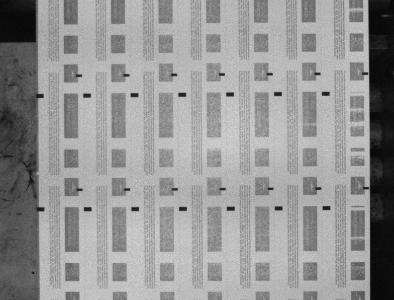qblock: (36, 93, 44, 98), (83, 93, 91, 98), (322, 91, 330, 96), (179, 92, 187, 97), (179, 206, 187, 211), (37, 207, 45, 211), (131, 93, 139, 97), (226, 92, 234, 96), (84, 207, 92, 211), (323, 206, 331, 210), (275, 206, 283, 210), (131, 207, 139, 211), (275, 92, 282, 96), (227, 207, 235, 210)
smallqblock: (123, 73, 130, 77), (171, 73, 178, 76), (219, 73, 226, 76), (315, 187, 322, 190), (76, 74, 82, 77), (267, 72, 273, 75), (315, 72, 321, 75), (124, 188, 130, 191), (77, 188, 83, 191), (363, 72, 369, 75), (172, 188, 178, 191), (268, 187, 274, 190), (220, 187, 226, 190), (364, 187, 370, 189)
